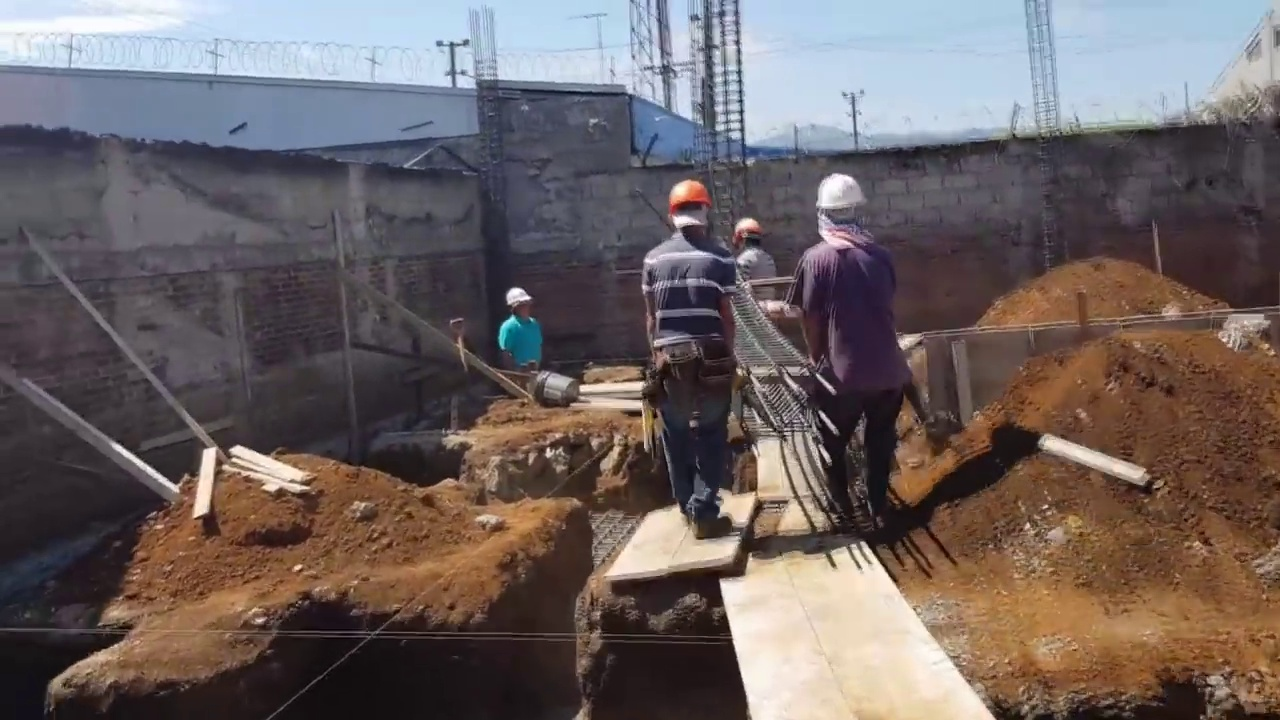helmet: (813, 172, 873, 214), (668, 178, 714, 217), (733, 219, 766, 243), (506, 286, 532, 304)
helmet-on: (812, 174, 873, 244), (670, 178, 714, 237), (733, 218, 765, 253), (506, 286, 533, 319)
person: (796, 174, 910, 532), (639, 181, 752, 537), (726, 219, 779, 303), (497, 287, 544, 368)
